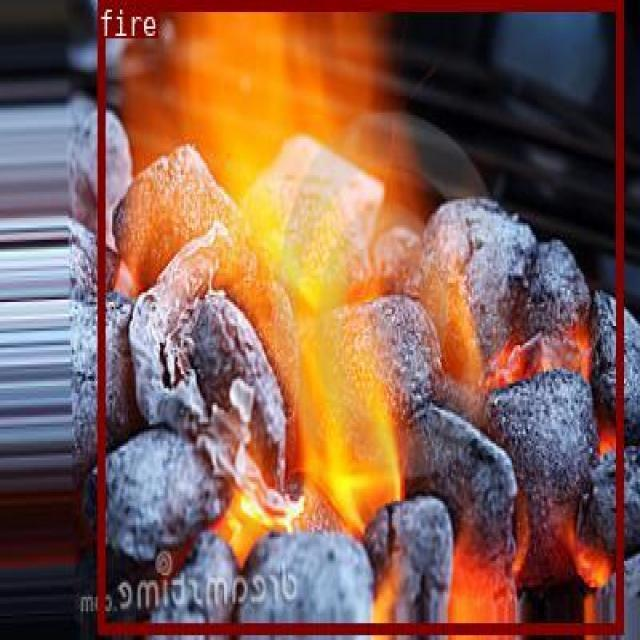fire: (96, 0, 622, 633)
